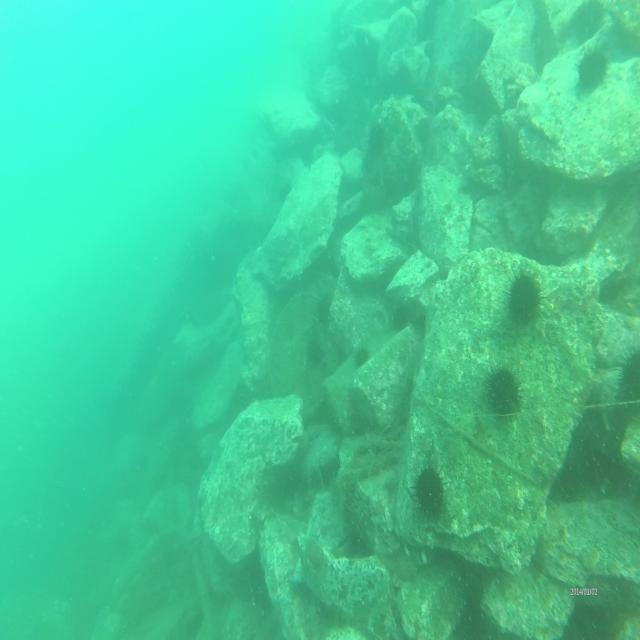echinus: (502, 258, 542, 334), (410, 458, 450, 522), (483, 365, 521, 425), (616, 336, 640, 418), (576, 40, 611, 93), (312, 289, 336, 323), (308, 334, 326, 369), (390, 304, 409, 336), (356, 343, 374, 372)
